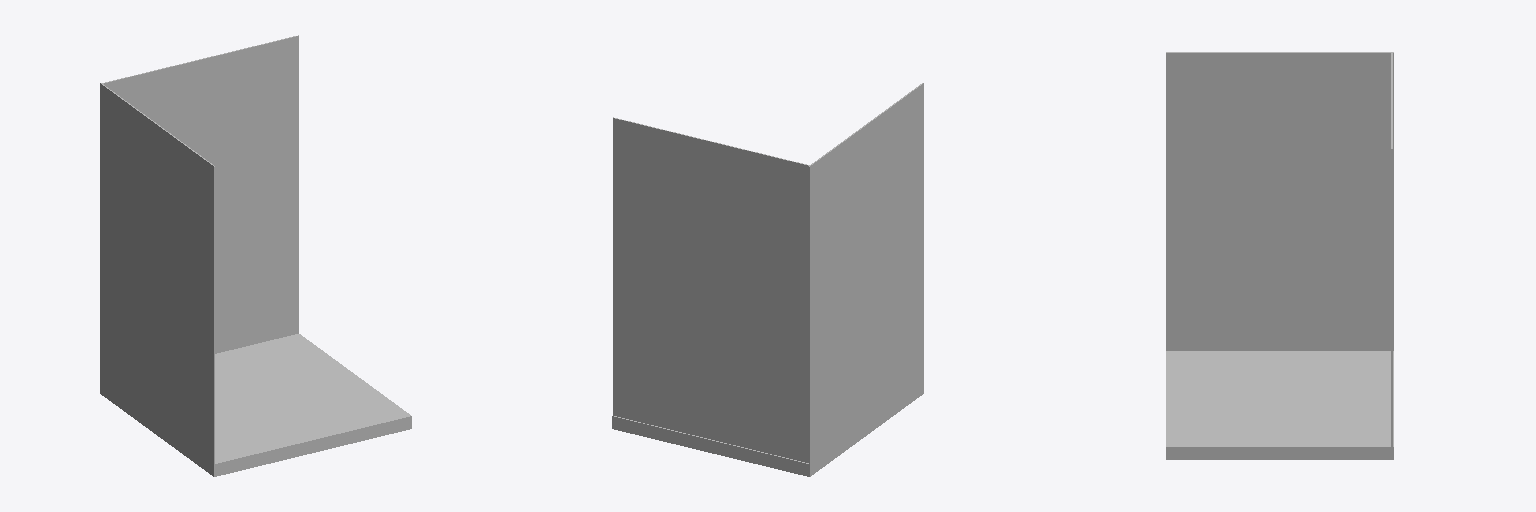
File: pale_vine_d_side_2.obj
3 renders of one model, left to right at view 1: azimuth 30°, elevation 25°; view 2: azimuth 150°, elevation 25°; view 3: azimuth 270°, elevation 25°, orthographic.
Visible parts, largest first — view 1: cube; view 2: cube; view 3: cube.
Boxes of the visible parts, x1,y1,x2,y2 form: cube: [100, 35, 411, 476]; cube: [612, 83, 923, 476]; cube: [1166, 52, 1393, 459].
Size of the model in its own units: 1 by 1.5 by 1.